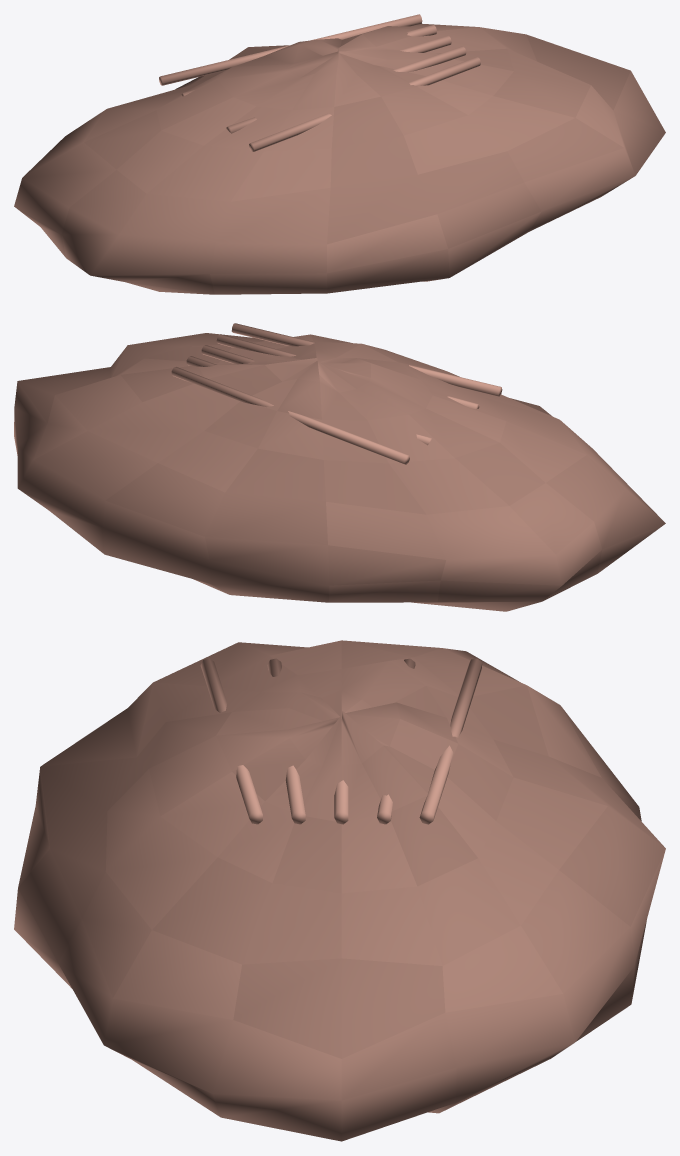
The model's file is Quail.glb.
3 views of the same model, one above another, from view 1: azimuth 30°, elevation 25°; view 2: azimuth 150°, elevation 25°; view 3: azimuth 270°, elevation 25° (orthographic). The views are drawn at different scales.
Visible parts, largest first — view 1: Quail; view 2: Quail; view 3: Quail.
Boxes of the visible parts, x1,y1,x2,y2 form: Quail: (14, 14, 665, 294); Quail: (14, 323, 665, 611); Quail: (14, 640, 665, 1141).
Size of what is drawn, in the model's own units: 0.0907 by 0.0277 by 0.0589.
